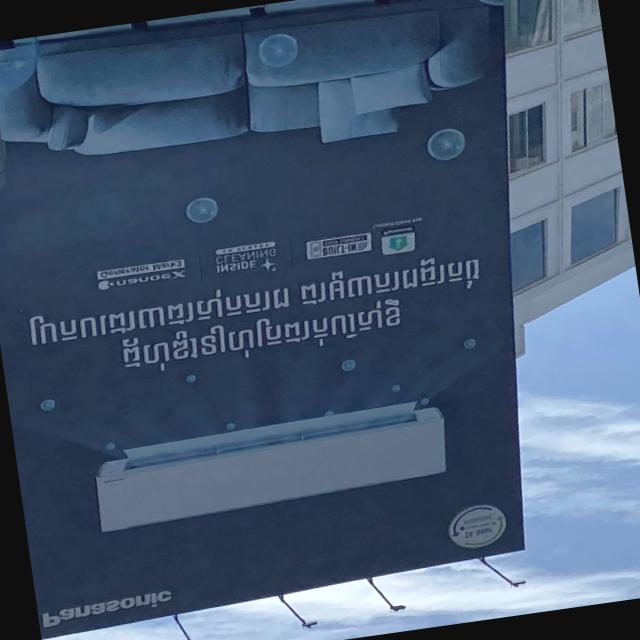1: (20, 244, 488, 353)
Yolov11kh: (115, 297, 418, 382)
